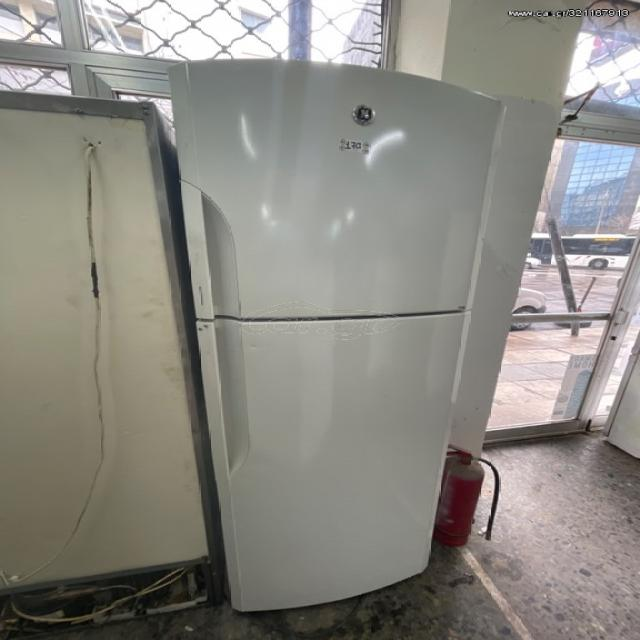refrigerator: (168, 54, 496, 614)
